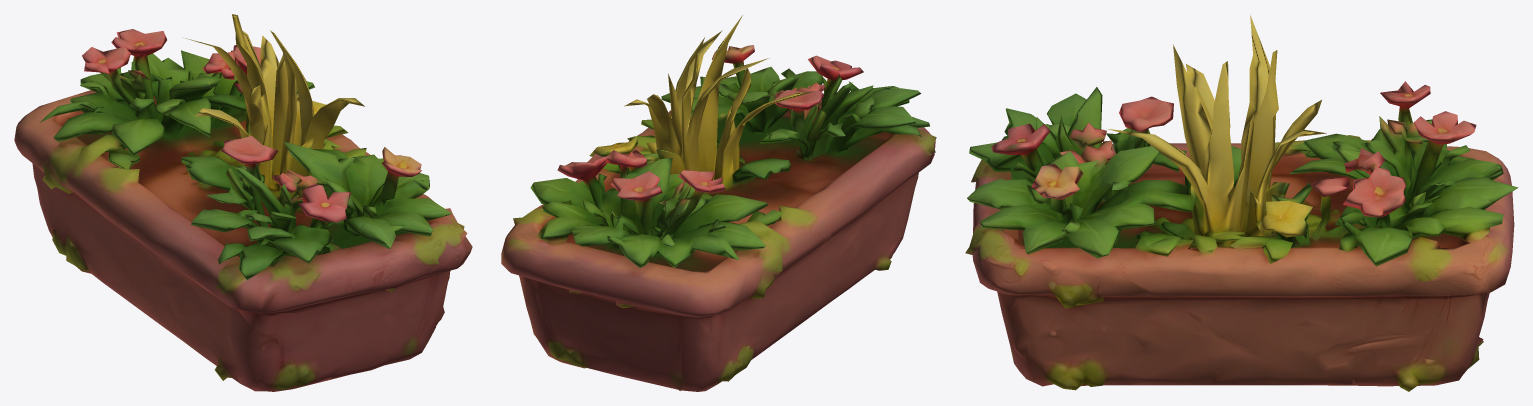
The model's file is terracotta-flower-bed.glb.
The picture shows the model from 3 angles, left to right: view 1: azimuth 30°, elevation 25°; view 2: azimuth 150°, elevation 25°; view 3: azimuth 270°, elevation 25°; orthographic projection. The views are drawn at different scales.
Parts seen in each view (by area): view 1: tripo_node_4a69cc02-96ed-4051-a7b2-bb6b59017211; view 2: tripo_node_4a69cc02-96ed-4051-a7b2-bb6b59017211; view 3: tripo_node_4a69cc02-96ed-4051-a7b2-bb6b59017211.
Boxes of the visible parts, x1=… form: tripo_node_4a69cc02-96ed-4051-a7b2-bb6b59017211: x1=14, y1=14, x2=472, y2=391; tripo_node_4a69cc02-96ed-4051-a7b2-bb6b59017211: x1=501, y1=15, x2=936, y2=391; tripo_node_4a69cc02-96ed-4051-a7b2-bb6b59017211: x1=965, y1=14, x2=1518, y2=391.
Bounding box in the file's own units: 3 × 3.09 × 5.07.
Materials: 1 (1 with a texture image).
